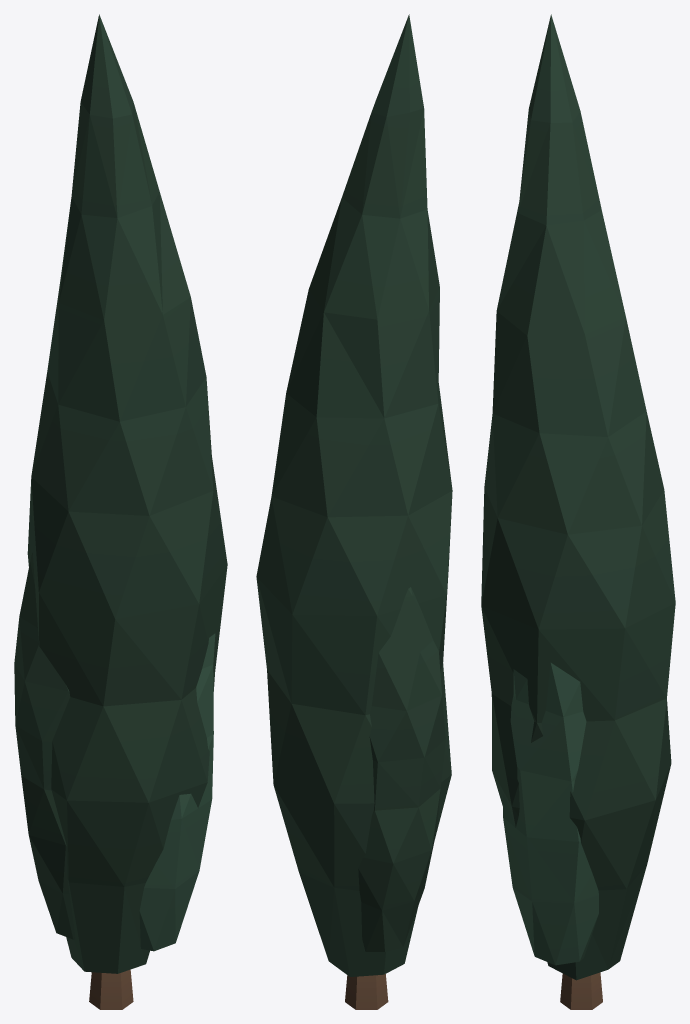
File: cypress.glb
The picture shows the model from 3 angles, left to right: view 1: azimuth 30°, elevation 25°; view 2: azimuth 150°, elevation 25°; view 3: azimuth 270°, elevation 25°; orthographic projection. The views are drawn at different scales.
Parts seen in each view (by area): view 1: cypress.001; view 2: cypress.001; view 3: cypress.001.
Part boxes in pixels (bbox=[...]): cypress.001: bbox=[14, 14, 227, 1009]; cypress.001: bbox=[256, 14, 452, 1009]; cypress.001: bbox=[481, 14, 675, 1009].
Bounding box in the file's own units: 1.28 × 7 × 1.27.
1 material, 1 textured.
